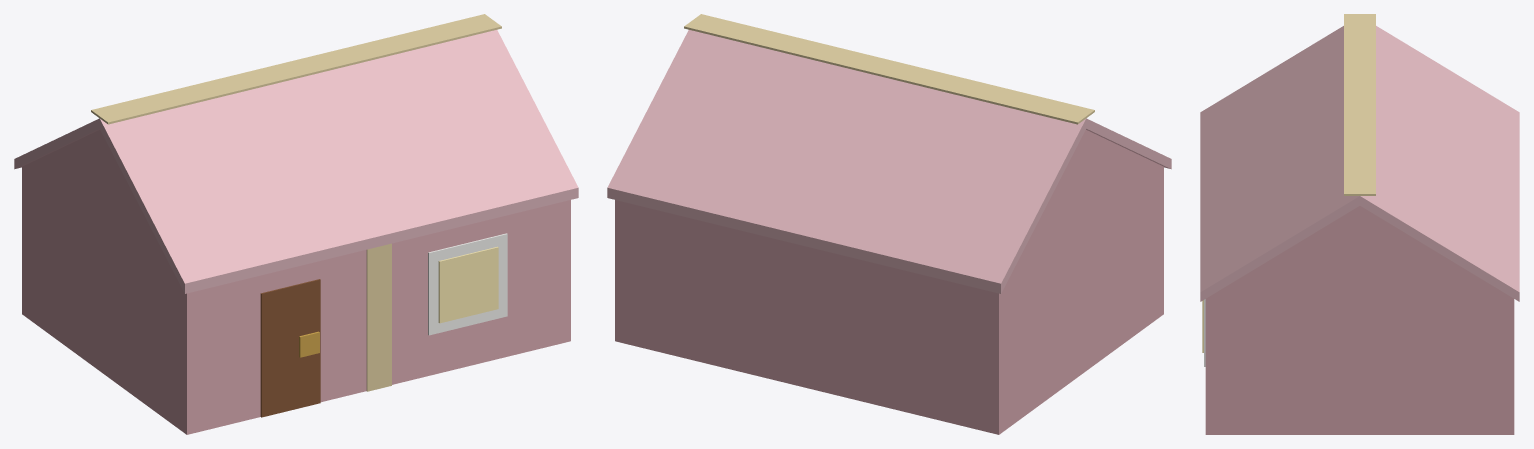
Rendered from rental_couple.glb.
The picture shows the model from 3 angles, left to right: view 1: azimuth 30°, elevation 25°; view 2: azimuth 150°, elevation 25°; view 3: azimuth 270°, elevation 25°; orthographic projection. The views are drawn at different scales.
Parts seen in each view (by area): view 1: rental_couple_Body; view 2: rental_couple_Body; view 3: rental_couple_Body.
Boxes of the visible parts, left/top/right/bottom form: rental_couple_Body: left=14, top=14, right=578, bottom=434; rental_couple_Body: left=607, top=14, right=1171, bottom=434; rental_couple_Body: left=1200, top=14, right=1519, bottom=434.
Bounding box in the file's own units: 0.8 × 0.504 × 0.6.
